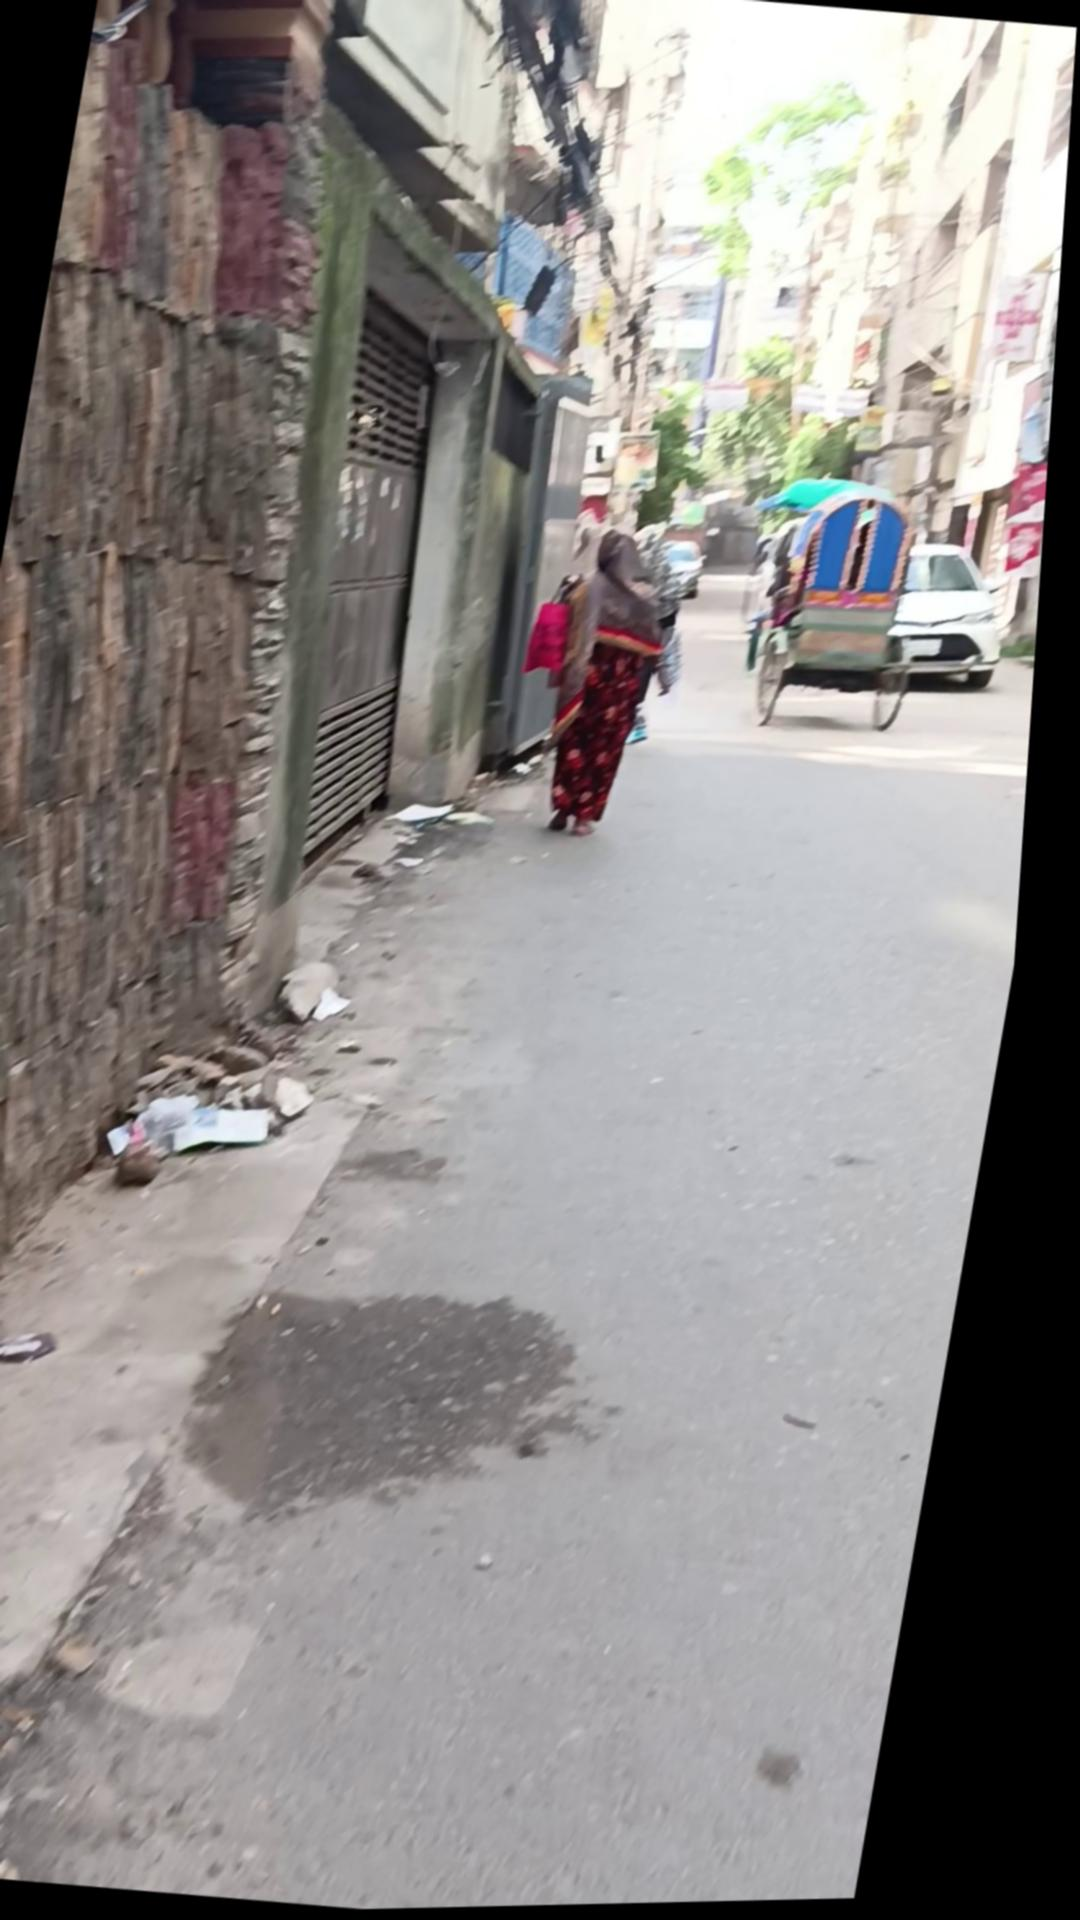Broken-road: (0, 491, 1054, 1920)
Muddy road: (537, 526, 692, 845)
Obstacle: (185, 129, 438, 1022)
Pothole: (733, 480, 951, 746)
